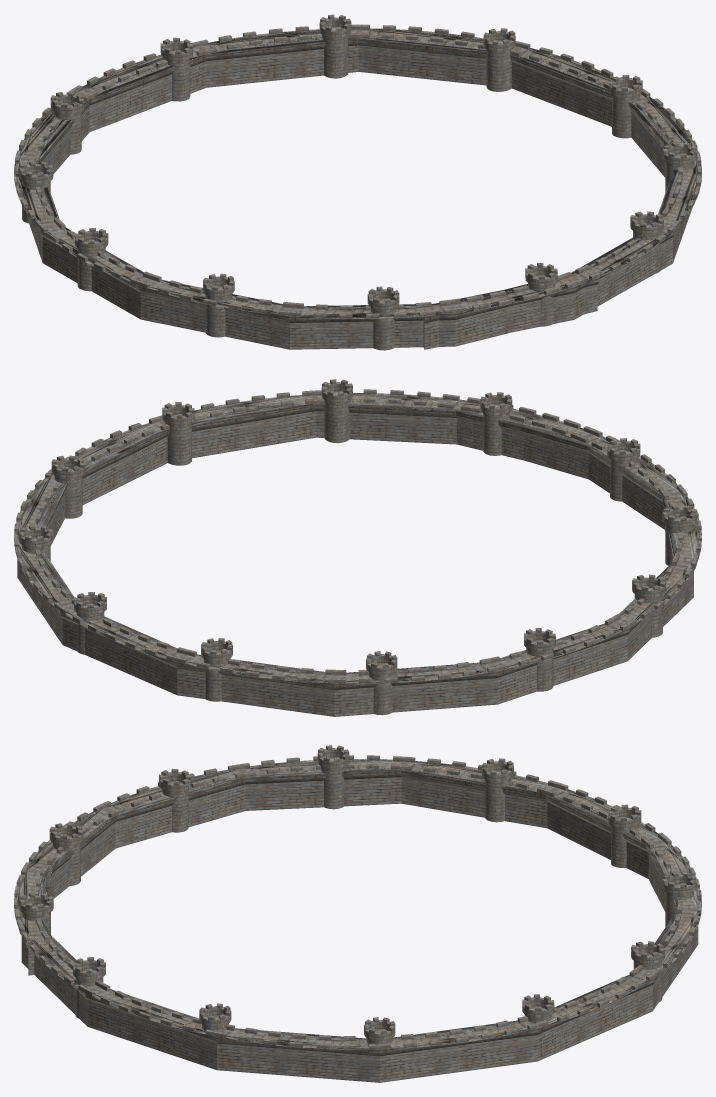
Rendered from Gate.fbx.
3 views of the same model, one above another, from view 1: azimuth 30°, elevation 25°; view 2: azimuth 150°, elevation 25°; view 3: azimuth 270°, elevation 25° (orthographic).
Visible parts, largest first — view 1: pCube1, pCylinder1; view 2: pCube1, pCylinder1; view 3: pCube1, pCylinder1.
Part boxes in pixels (bbox=[...]): pCube1: bbox=[14, 24, 701, 349]; pCylinder1: bbox=[19, 14, 696, 350]; pCube1: bbox=[14, 389, 701, 716]; pCylinder1: bbox=[19, 379, 696, 715]; pCube1: bbox=[14, 755, 701, 1082]; pCylinder1: bbox=[19, 745, 696, 1043].
Size of the model in its own units: 1277 by 104 by 1277.
